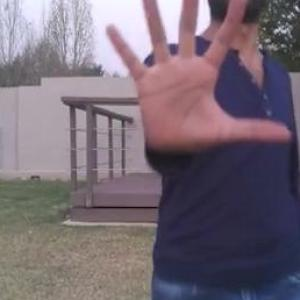follow_hand: (100, 0, 297, 158)
